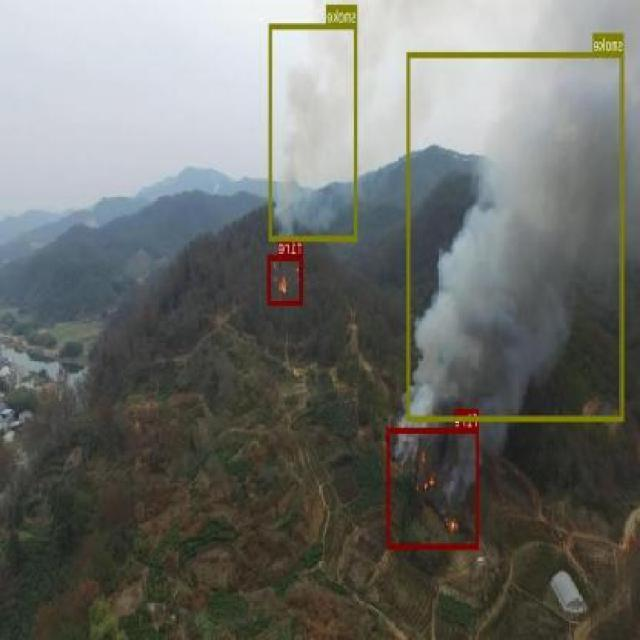fire: (388, 426, 479, 548), (268, 253, 304, 304)
smoke: (408, 52, 624, 420), (270, 23, 358, 240)
